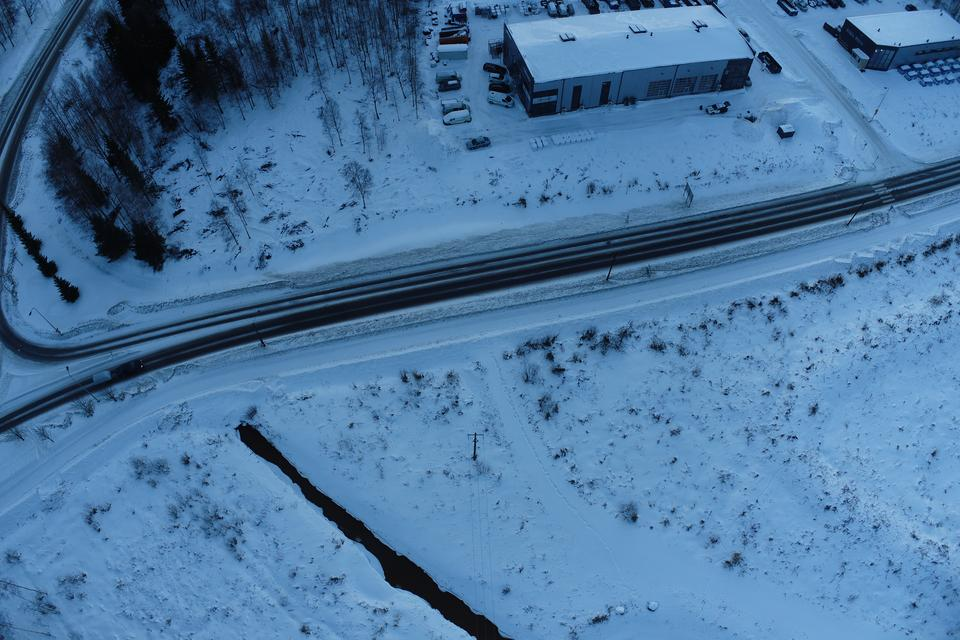intersection: (822, 96, 935, 238)
